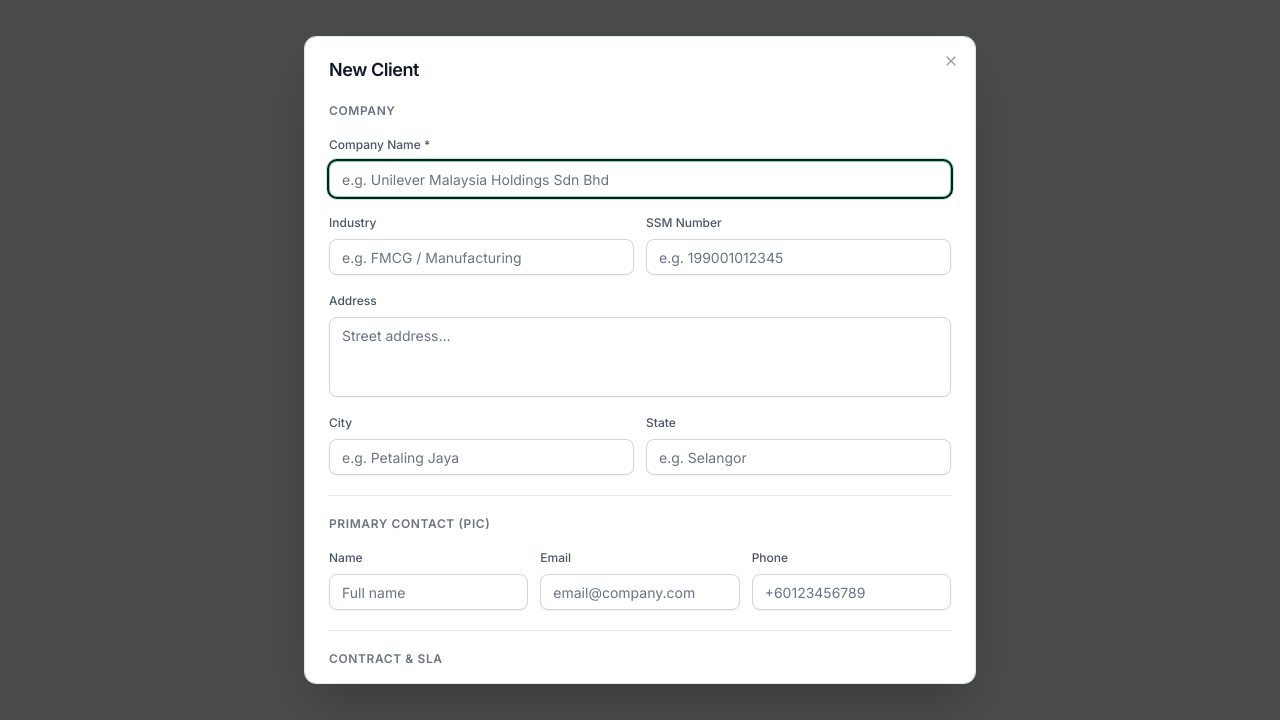
Test case: ClientForm — Error Handling › shows field error for duplicate SSM number
Type "Test Company" into the field with placeholder "e.g. Unilever Malaysia Holdings Sdn Bhd".
click(640, 179); type("Test Company")  # box [329,161,951,197]
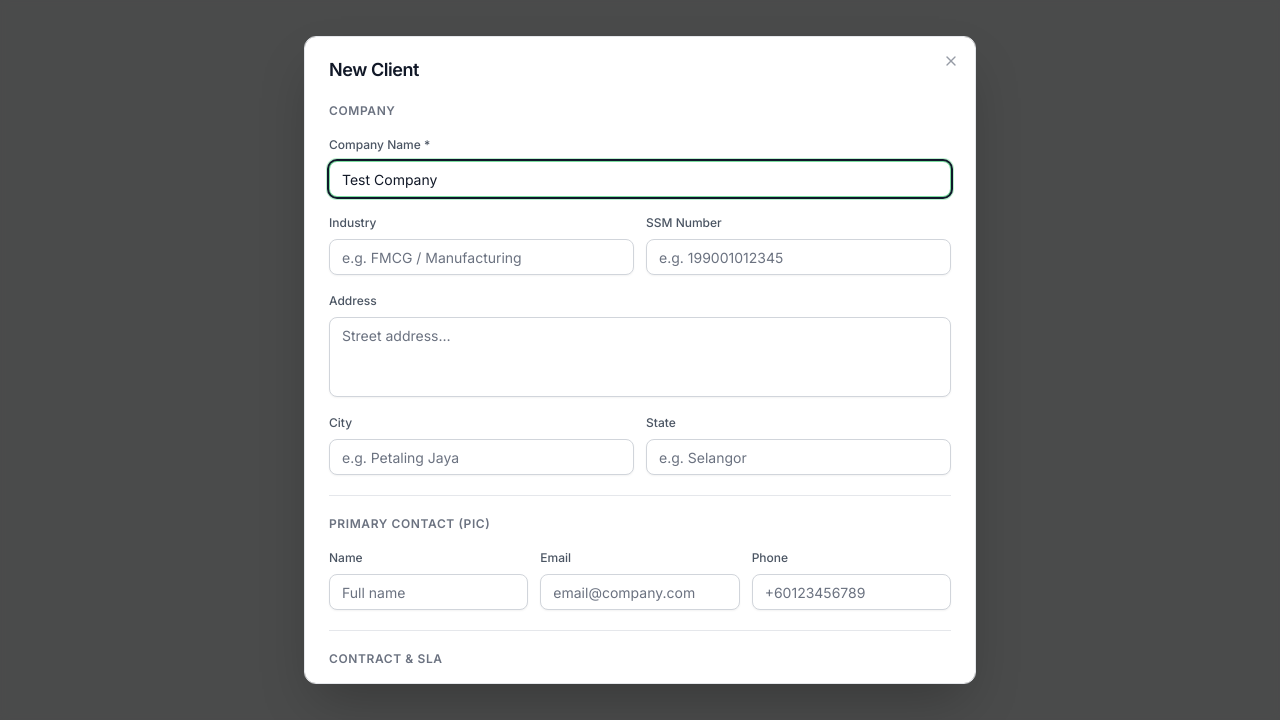
Type "DUPLICATE-SSM" into the field with placeholder "e.g. 199001012345".
click(798, 257); type("DUPLICATE-SSM")  # box [646,239,951,275]
(page scrolled)
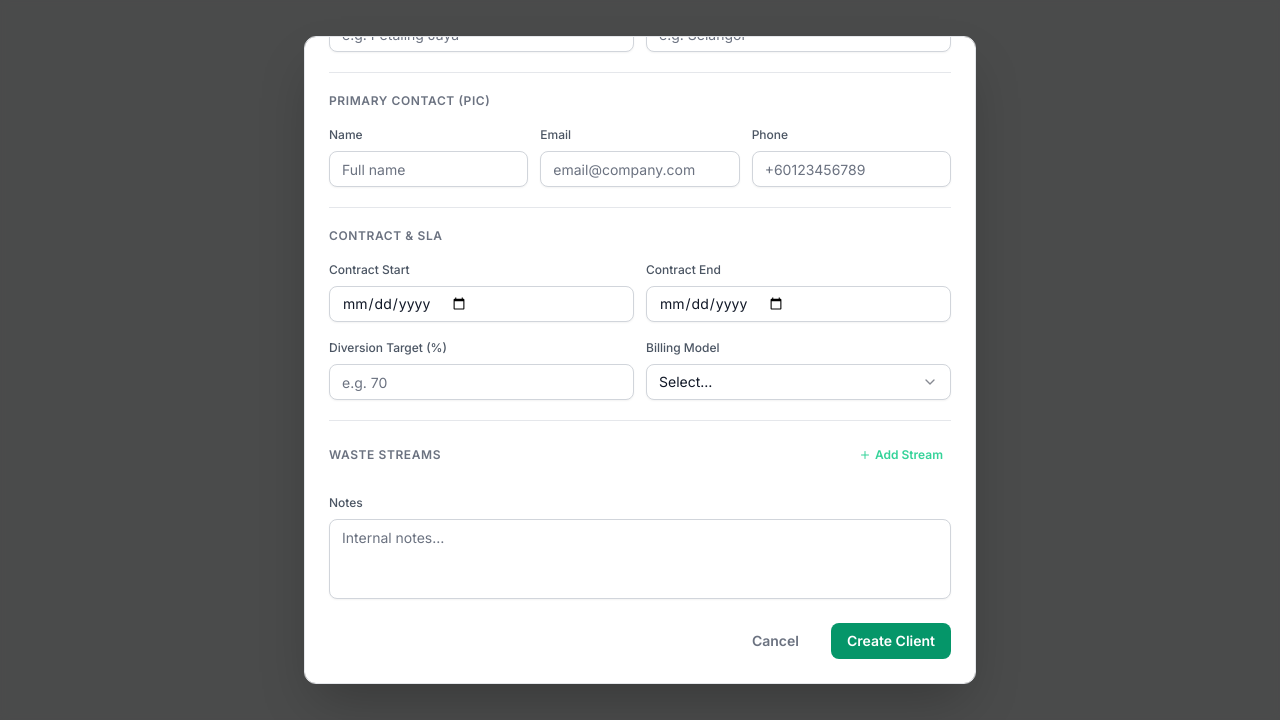
Click the button "Create Client".
click(891, 641)  # box [831,623,951,659]
(page scrolled)
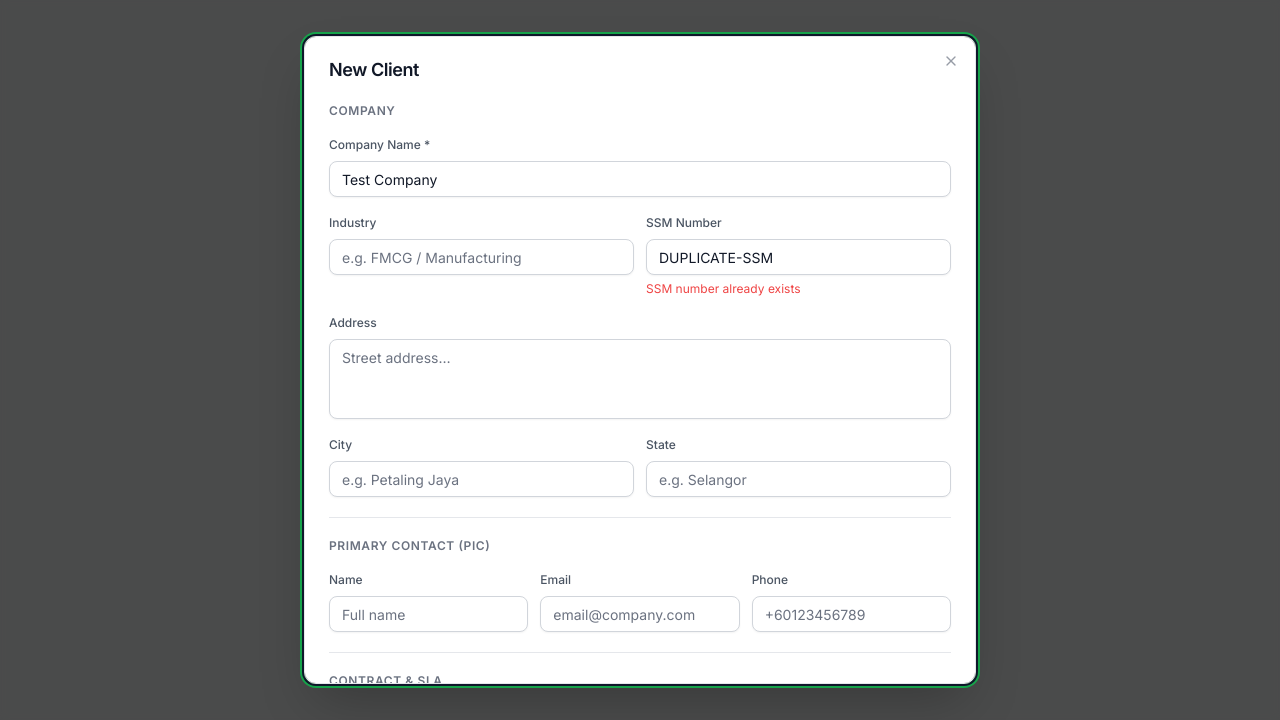
expect the text "SSM number already exists" is shown: met, box [646,281,800,296]
